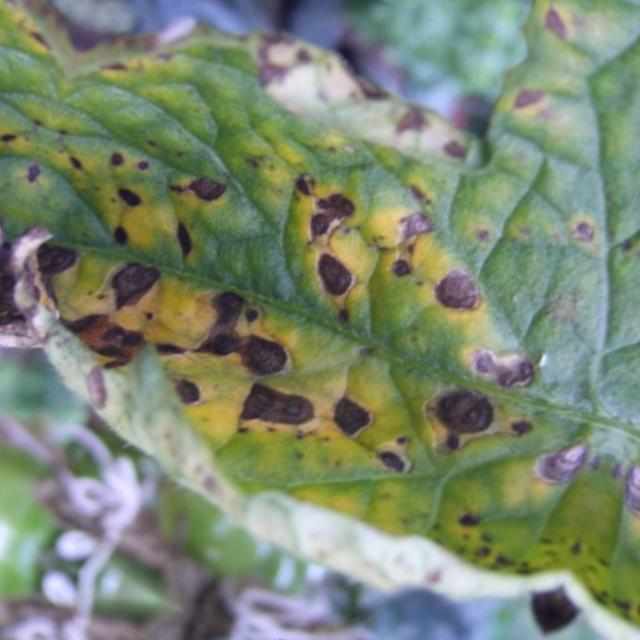Tomato Early blight leaf: (0, 0, 640, 611)
